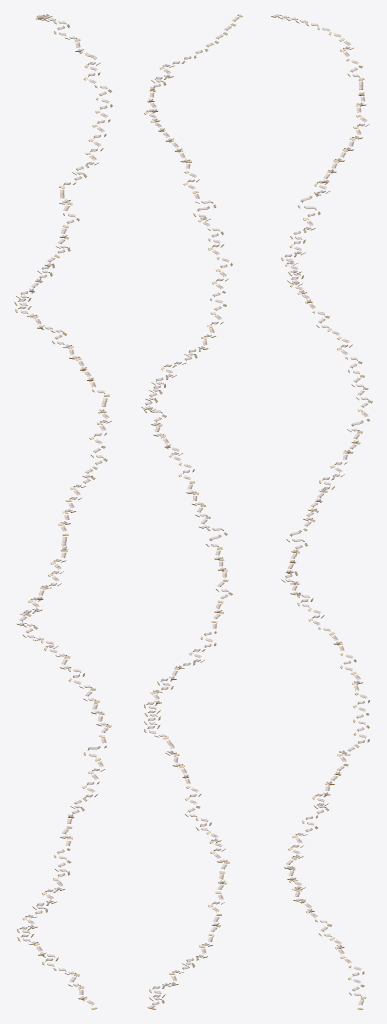
The model's file is C-route-v027-10.glb.
3 renders of one model, left to right at view 1: azimuth 30°, elevation 25°; view 2: azimuth 150°, elevation 25°; view 3: azimuth 330°, elevation 25°, orthographic. The views are drawn at different scales.
Bounding box in the file's own units: 0.4162 × 4.63 × 0.3156.
5 materials, 1 textured.
